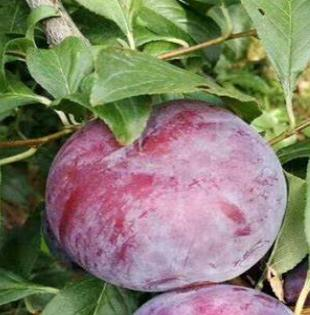plum_A: (43, 100, 289, 293)
